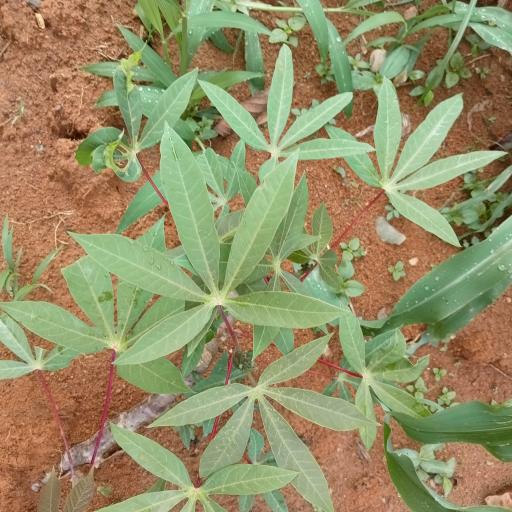Cassava_Mosaic: (79, 126, 338, 364), (151, 338, 357, 501)
